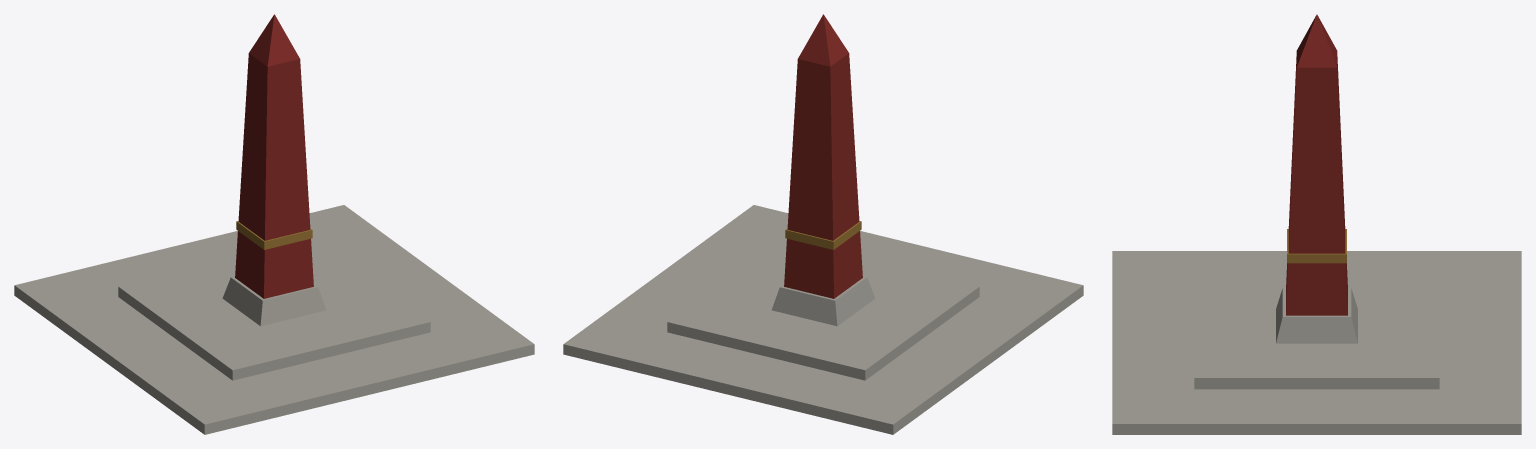
Rendered from Monument3.fbx.
The picture shows the model from 3 angles, left to right: view 1: azimuth 30°, elevation 25°; view 2: azimuth 150°, elevation 25°; view 3: azimuth 270°, elevation 25°; orthographic projection. The views are drawn at different scales.
Visible parts, largest first — view 1: Monument3; view 2: Monument3; view 3: Monument3.
Boxes of the visible parts, left/top/right/bottom form: Monument3: left=14, top=14, right=534, bottom=434; Monument3: left=563, top=14, right=1083, bottom=434; Monument3: left=1112, top=14, right=1521, bottom=434.
Bounding box in the file's own units: 5 × 4.51 × 5.
